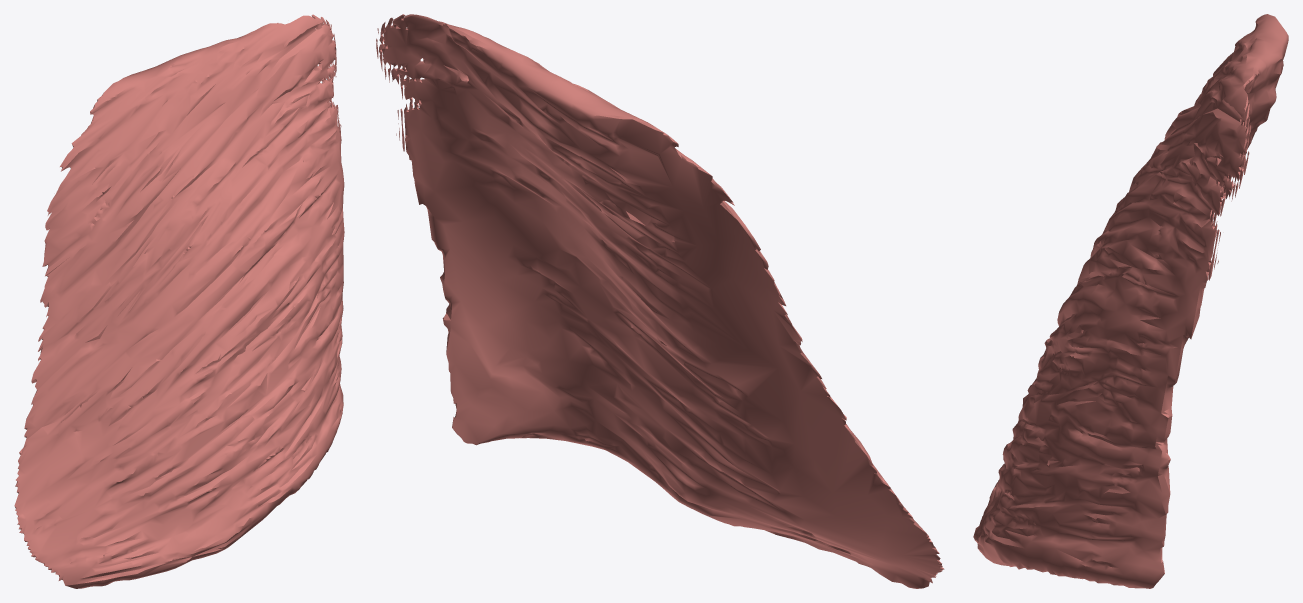
File: fma38454.glb
The picture shows the model from 3 angles, left to right: view 1: azimuth 30°, elevation 25°; view 2: azimuth 150°, elevation 25°; view 3: azimuth 270°, elevation 25°; orthographic projection. The views are drawn at different scales.
Visible parts, largest first — view 1: FMA38454; view 2: FMA38454; view 3: FMA38454.
Boxes of the visible parts, x1,y1,x2,y2 form: FMA38454: [14, 14, 344, 588]; FMA38454: [376, 14, 944, 588]; FMA38454: [973, 14, 1288, 588].
Size of the model in its own units: 0.0461 by 0.0506 by 0.0241.
